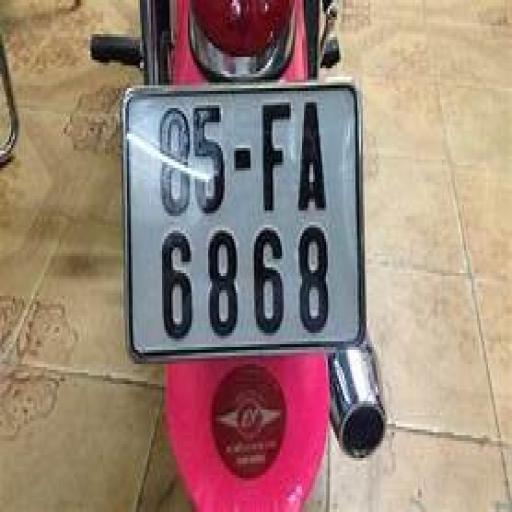place: (125, 99, 359, 338)
